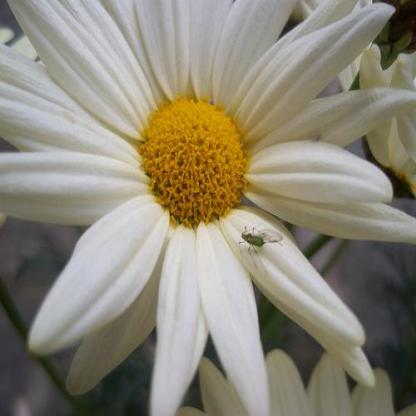aphid: (234, 218, 286, 270)
